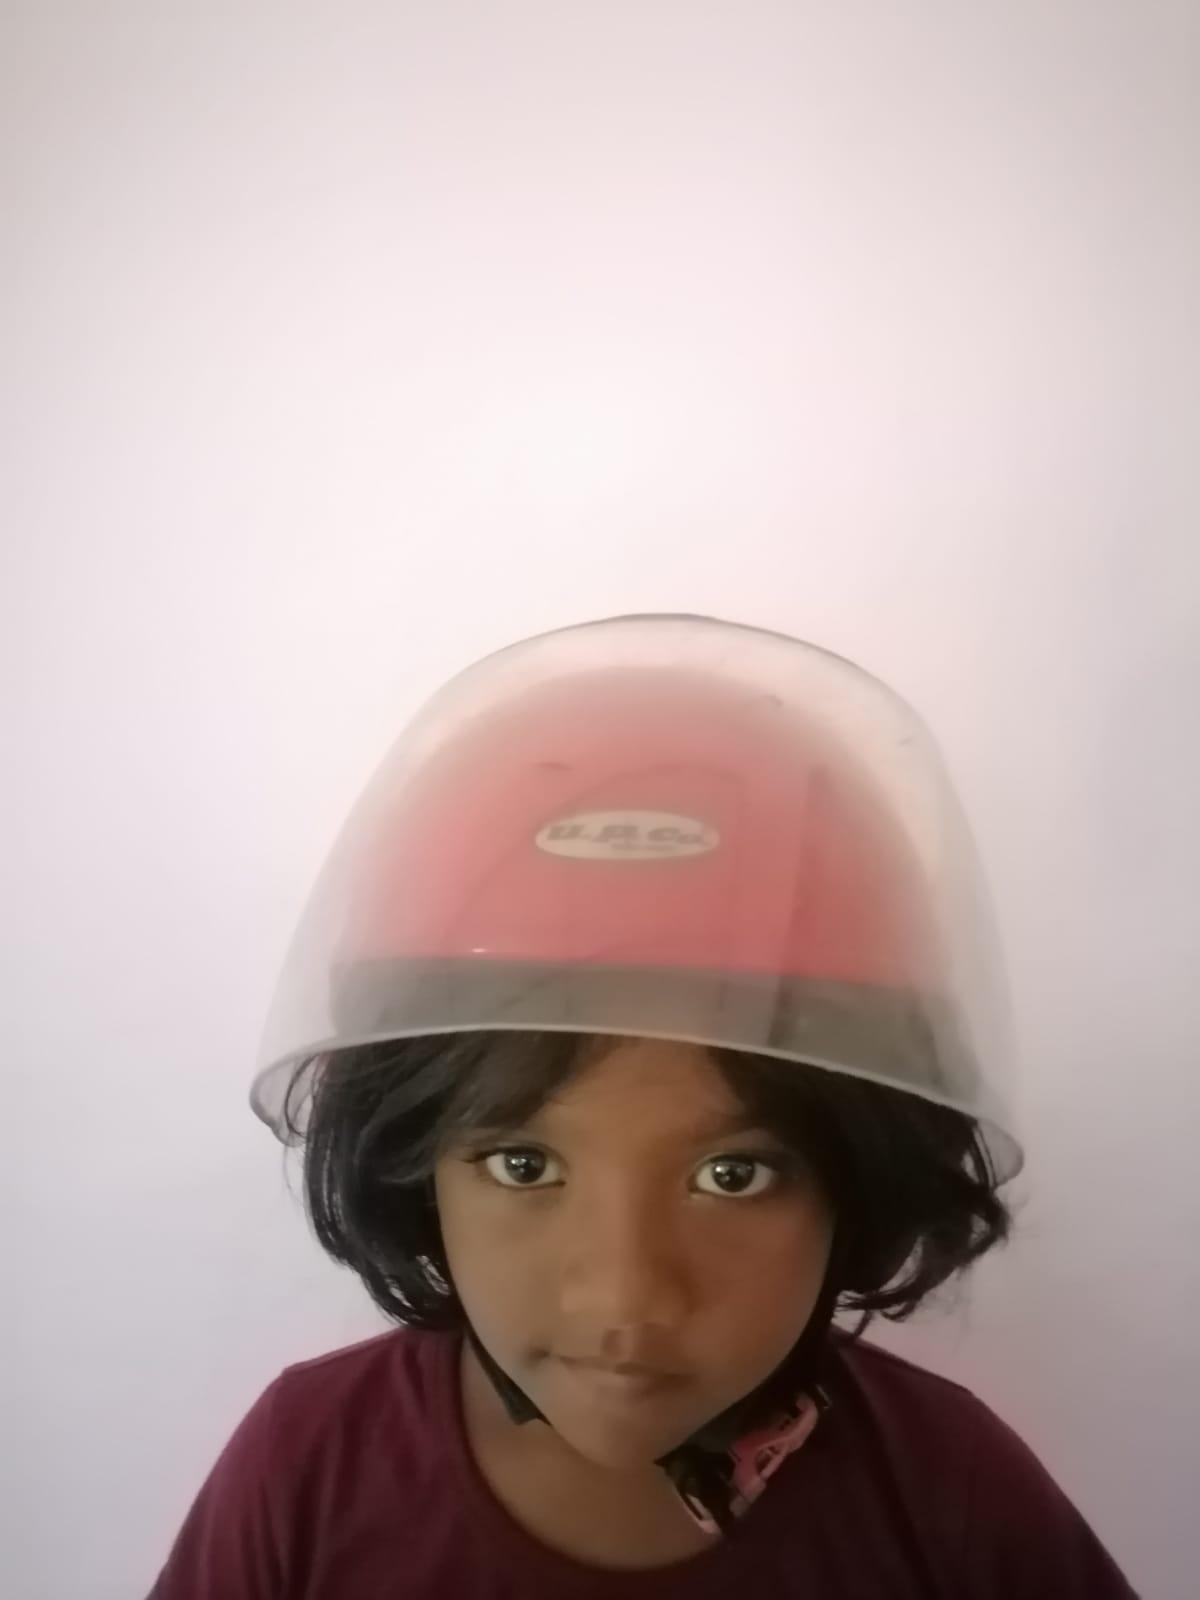helmet: (271, 614, 1029, 1187)
